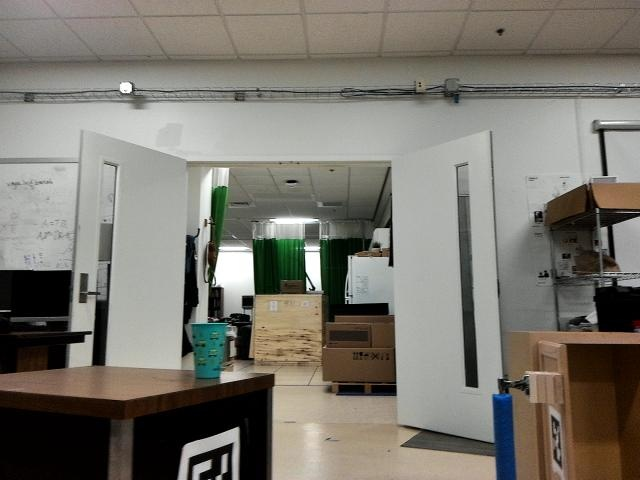coffee_cup: (189, 318, 230, 382)
noodle_handle: (485, 387, 524, 480)
